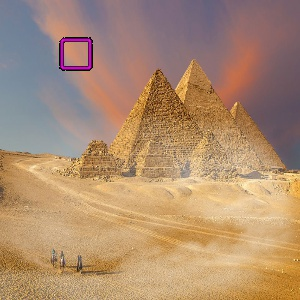square: (57, 35, 94, 72)
